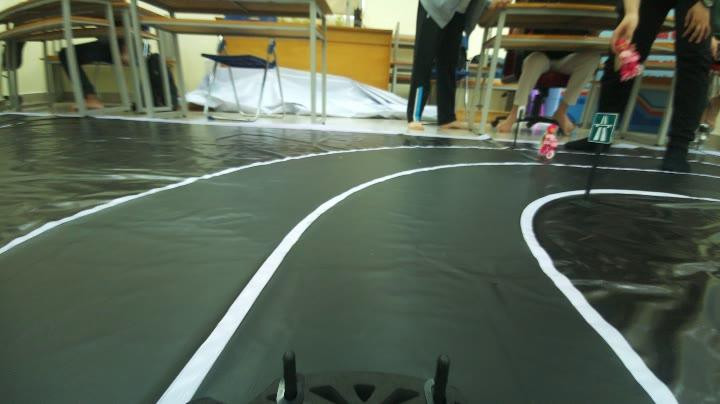highway_entry: (586, 106, 624, 151)
